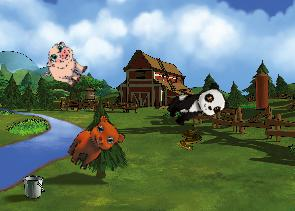bear: (62, 109, 129, 180)
panda: (163, 79, 230, 131)
pig: (37, 38, 93, 92)
